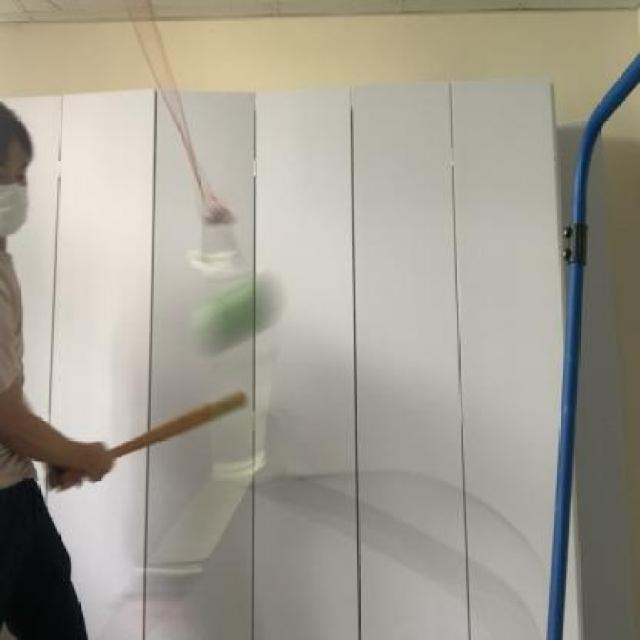baseball: (183, 259, 289, 353)
